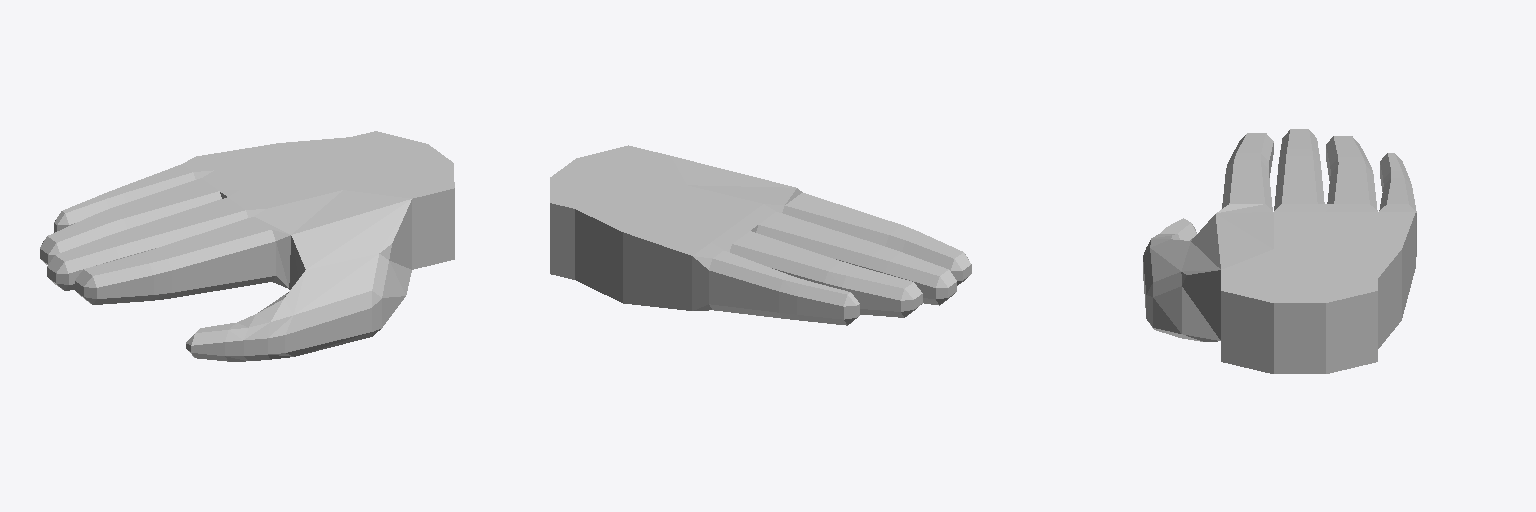
Rendered from Hand.obj.
The picture shows the model from 3 angles: view 1: azimuth 30°, elevation 25°; view 2: azimuth 150°, elevation 25°; view 3: azimuth 270°, elevation 25°; orthographic projection.
Parts seen in each view (by area): view 1: Cube; view 2: Cube; view 3: Cube.
Boxes of the visible parts, <box> form: Cube: <box>40,131,454,361</box>; Cube: <box>550,145,971,325</box>; Cube: <box>1143,129,1416,373</box>.
Bounding box in the file's own units: 4.58 × 1.07 × 2.79.